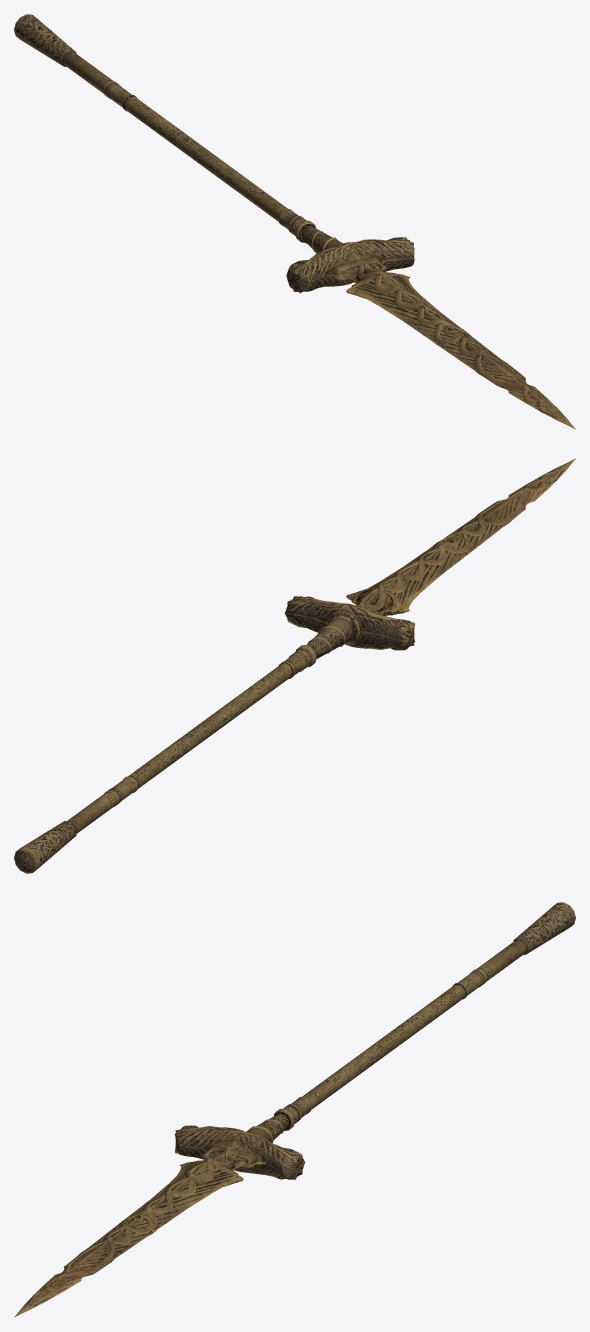
The model's file is guardiansswordspear.fbx.
3 renders of one model, top to bottom at view 1: azimuth 30°, elevation 25°; view 2: azimuth 150°, elevation 25°; view 3: azimuth 330°, elevation 25°, orthographic.
Parts seen in each view (by area): view 1: WP_A_0907; view 2: WP_A_0907; view 3: WP_A_0907.
Part boxes in pixels (box(x1,y1,x2,y2)): WP_A_0907: box(14, 14, 575, 429); WP_A_0907: box(14, 458, 575, 873); WP_A_0907: box(14, 902, 575, 1317).
Size of the model in its own units: 28.92 by 9.32 by 229.
1 material, 1 textured.
